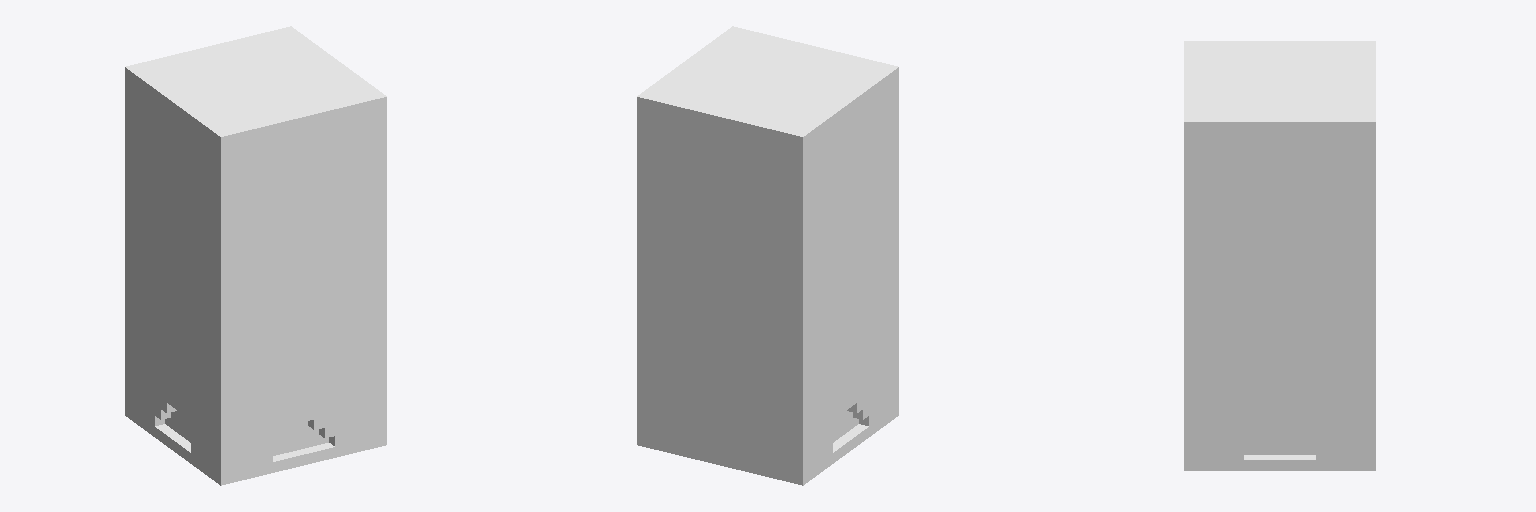
Rendered from Mountain_river_9.obj.
The picture shows the model from 3 angles: view 1: azimuth 30°, elevation 25°; view 2: azimuth 150°, elevation 25°; view 3: azimuth 270°, elevation 25°; orthographic projection.
Visible parts, largest first — view 1: object 1; view 2: object 1; view 3: object 1.
Part boxes in pixels (x1,y1,x2,y2): object 1: (125,26,386,485); object 1: (637,26,898,485); object 1: (1184,41,1375,470).
Bounding box in the file's own units: 1.6 × 3.2 × 1.6.